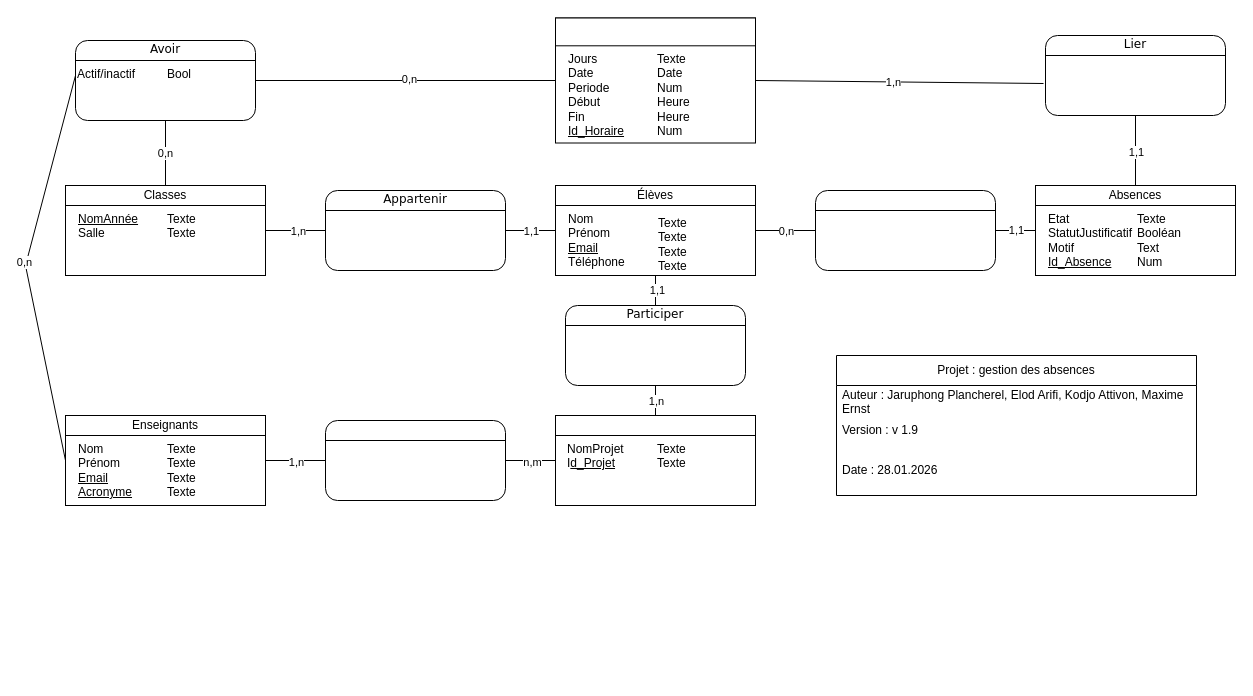
The diagram is 1253 pixels wide and 696 high, and some of its shapes have lost their labels. Each missing label, with the box of its shape:
Concerner: (814, 190, 996, 270)
Diriger: (324, 420, 506, 500)
Horaires: (554, 17, 756, 46)
Projets: (554, 414, 756, 436)
